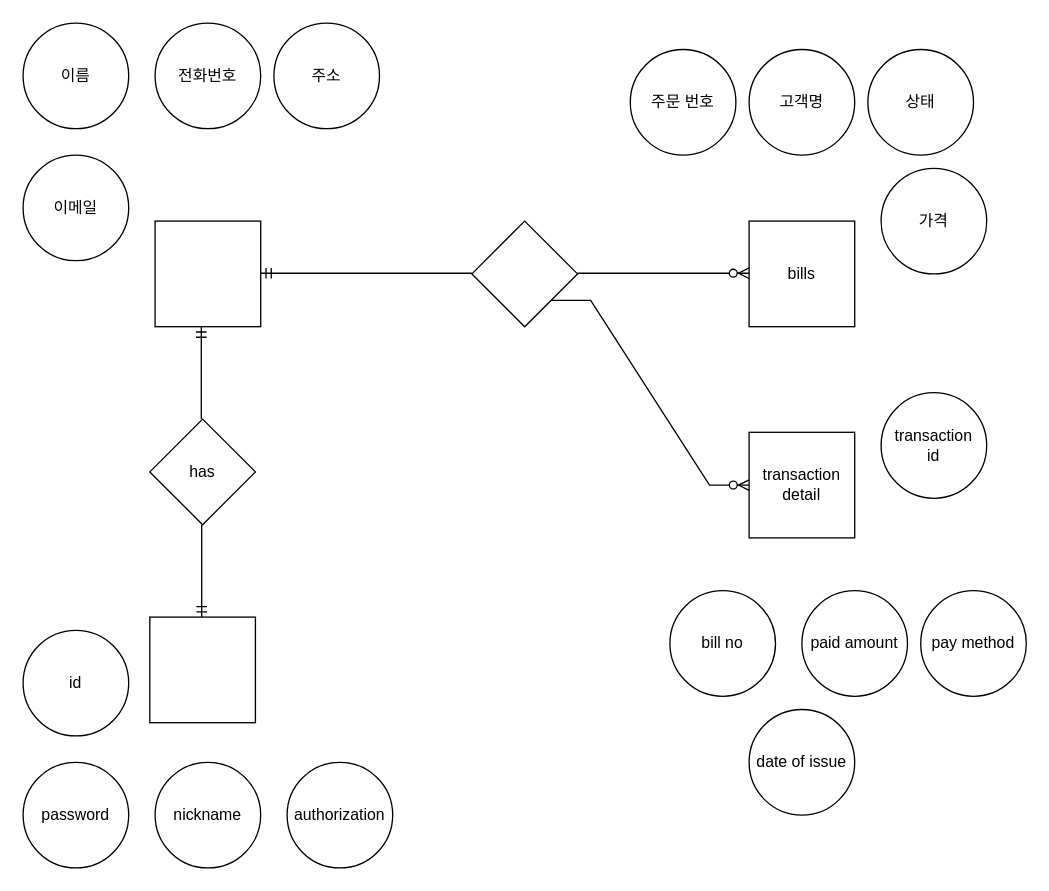
This 1049x891 diagram has some shape labels left out. The shapes that lost their labels are listed below. From the top down, each one's centre as x and y in pixels, then its label:
At point (207, 273): "고객".
At point (524, 273): "manage".
At point (201, 669): "회원정보".
